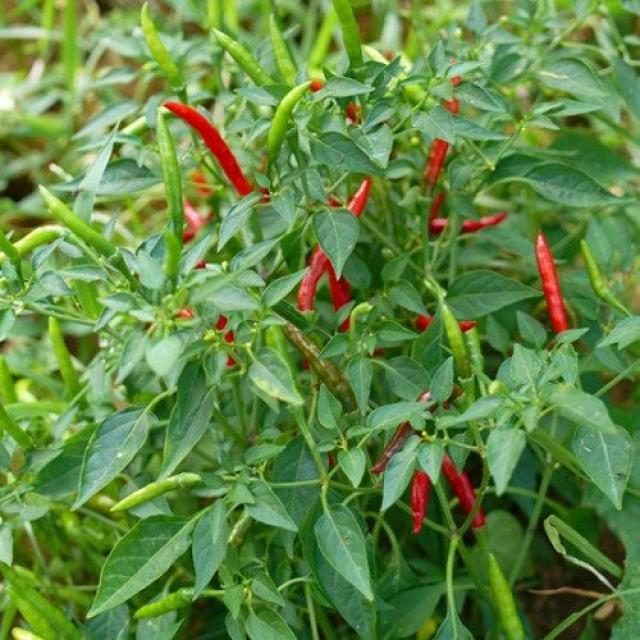green chilli: (38, 186, 116, 257), (156, 108, 184, 287), (443, 302, 474, 378)
red chili: (165, 102, 254, 195), (297, 246, 352, 312), (536, 232, 571, 333), (348, 178, 370, 217)
